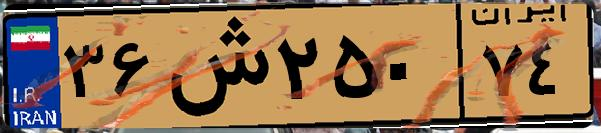0: (385, 28, 445, 110)
2: (270, 28, 330, 110)
3: (57, 26, 110, 100)
4: (525, 38, 570, 115)
5: (330, 28, 385, 110)
6: (110, 28, 158, 98)
7: (475, 38, 525, 113)
ش: (158, 12, 270, 120)
